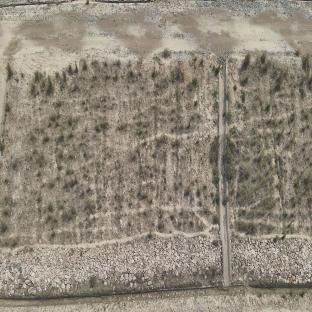rock_toe: (1, 236, 221, 293), (232, 240, 311, 284)
slope_drain: (217, 56, 233, 285)
toe_drain: (1, 283, 312, 306)
